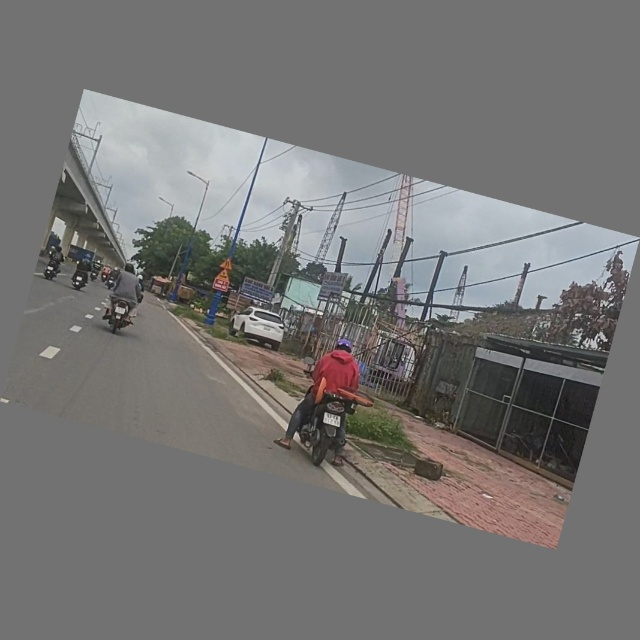W.203c: (219, 256, 235, 271)
W.245a: (216, 268, 234, 282)
